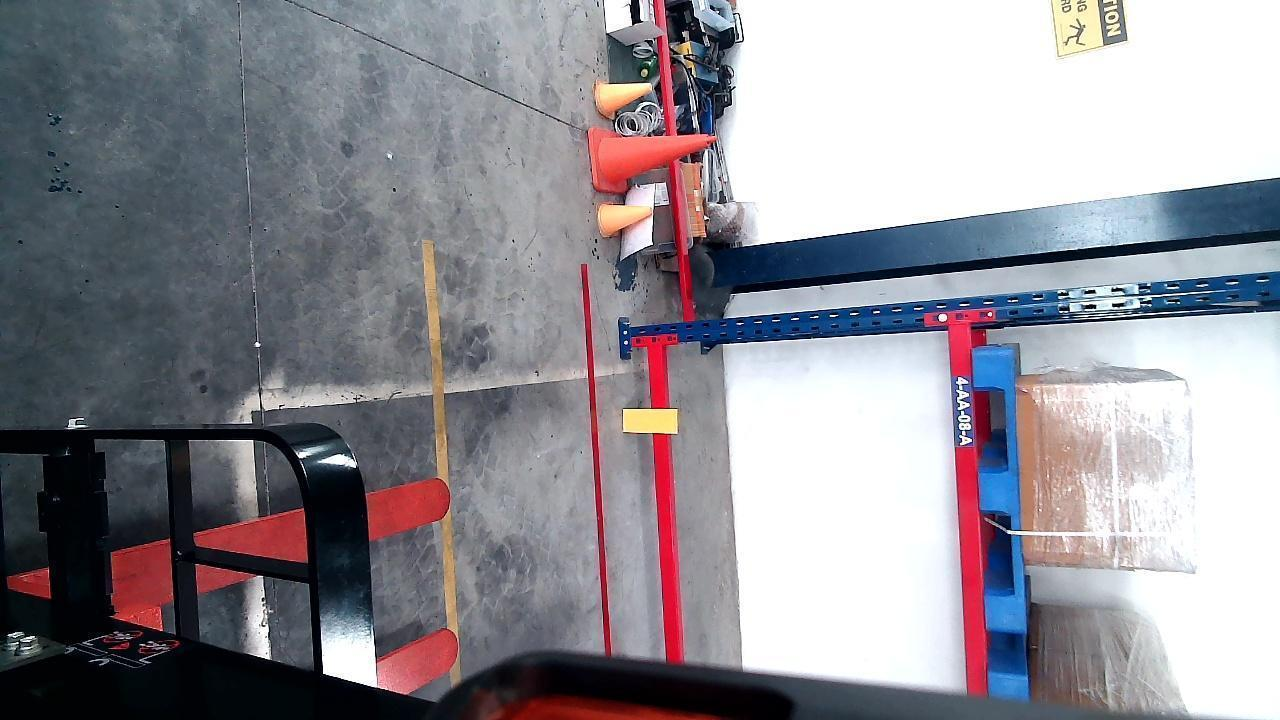red_line: (579, 262, 615, 660)
yellow_line: (421, 237, 463, 684)
